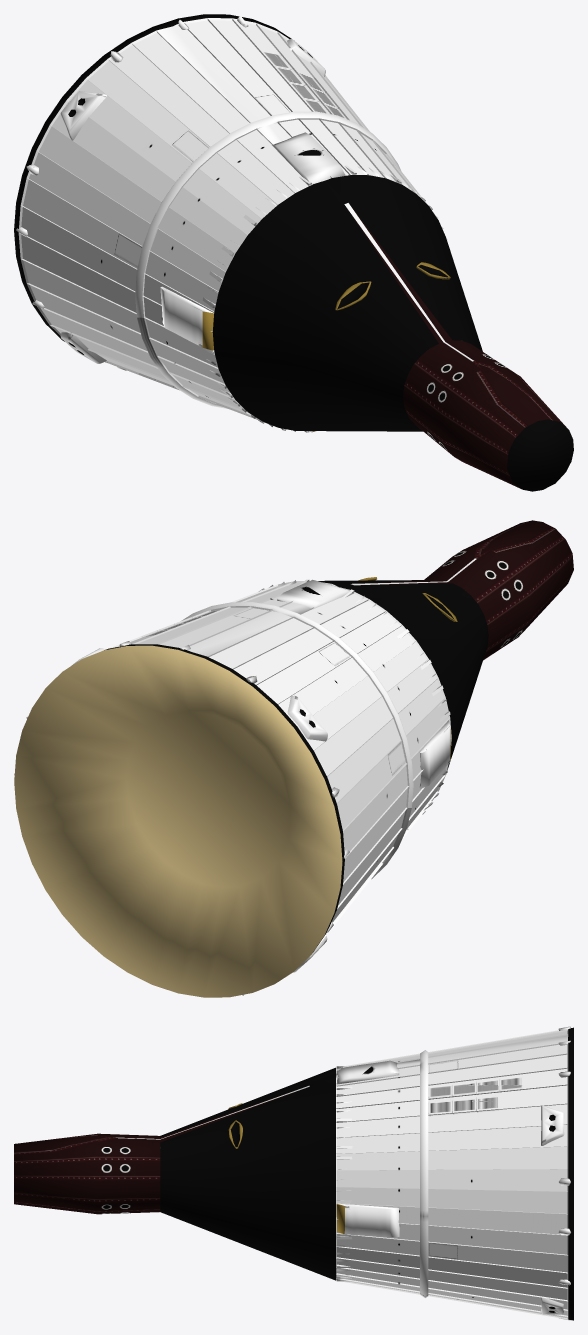
The model's file is gemini_lod2.glb.
The picture shows the model from 3 angles, top to bottom: view 1: azimuth 30°, elevation 25°; view 2: azimuth 150°, elevation 25°; view 3: azimuth 270°, elevation 25°; orthographic projection. The views are drawn at different scales.
Parts seen in each view (by area): view 1: gemini_lod2; view 2: gemini_lod2; view 3: gemini_lod2.
Part boxes in pixels (left/top/right/bottom): gemini_lod2: left=14, top=14, right=573, bottom=491; gemini_lod2: left=14, top=520, right=573, bottom=997; gemini_lod2: left=14, top=1026, right=573, bottom=1320.
Size of the model in its own units: 3.05 by 3.04 by 5.78.
10 materials, 5 textured.
